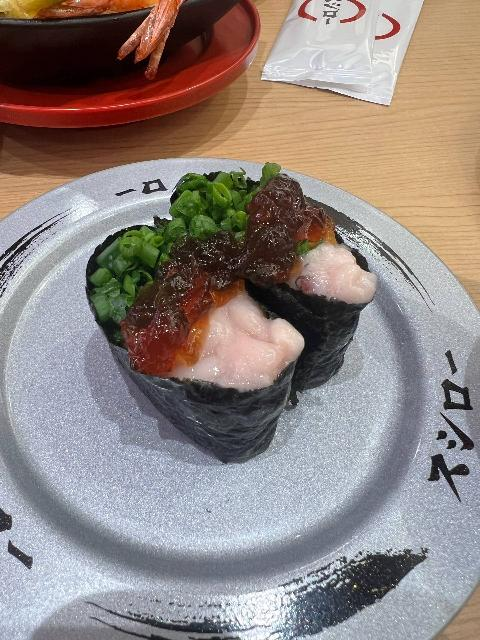janwhite: (0, 454, 480, 640), (374, 201, 480, 451), (0, 167, 86, 456), (100, 161, 182, 219)
